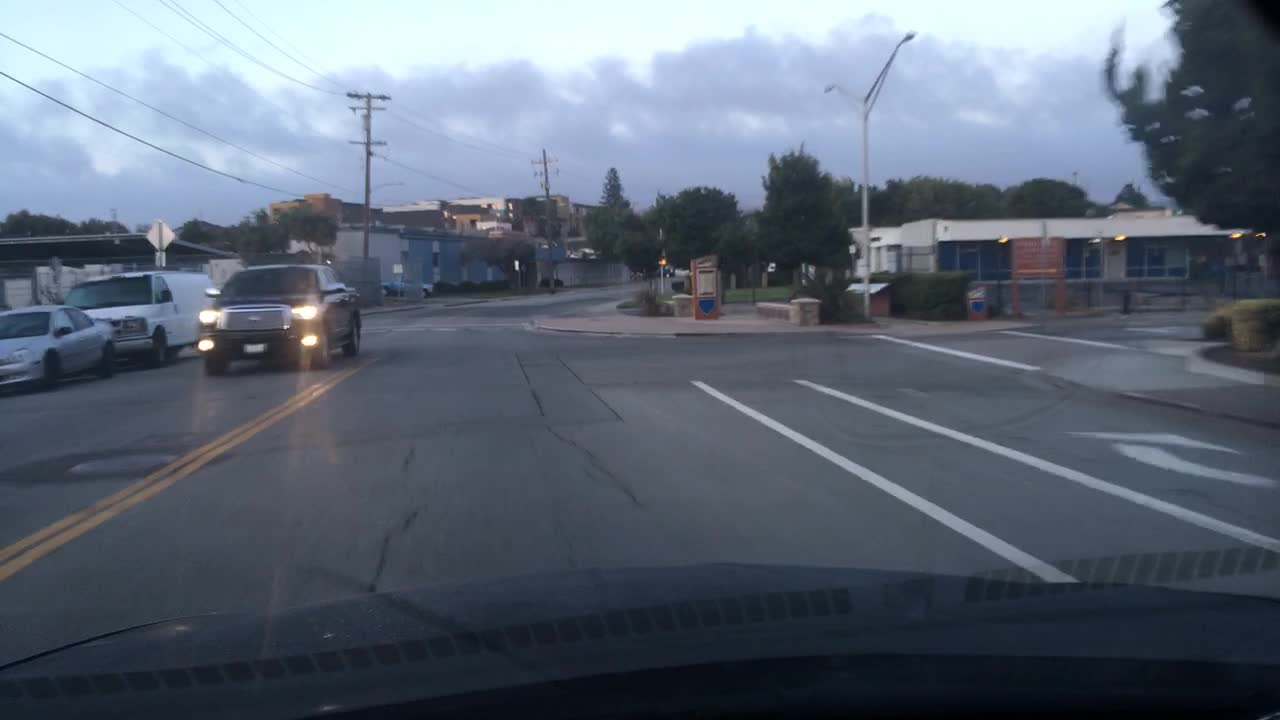car: (197, 259, 364, 373), (67, 269, 215, 369), (1, 307, 119, 397), (379, 272, 436, 298), (653, 266, 673, 278), (675, 266, 693, 278)
traffic light: (656, 256, 668, 265)
traffic sign: (1012, 238, 1064, 277), (145, 221, 174, 247), (151, 249, 169, 266)
